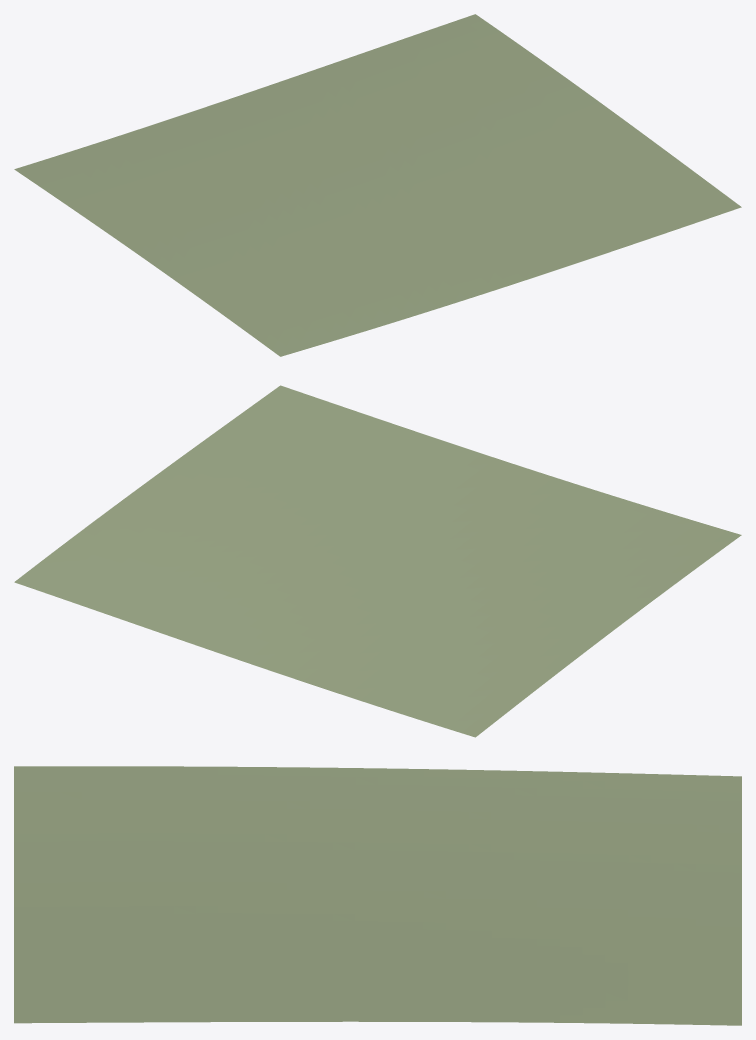
File: expanse-20-13.glb
3 views of the same model, one above another, from view 1: azimuth 30°, elevation 25°; view 2: azimuth 150°, elevation 25°; view 3: azimuth 270°, elevation 25° (orthographic). The views are drawn at different scales.
Visible parts, largest first — view 1: expanse-20-13; view 2: expanse-20-13; view 3: expanse-20-13.
Boxes of the visible parts, x1,y1,x2,y2 form: expanse-20-13: (14, 14, 741, 356); expanse-20-13: (14, 385, 741, 737); expanse-20-13: (14, 766, 741, 1025).
Bounding box in the file's own units: 256 × 24.15 × 256.
